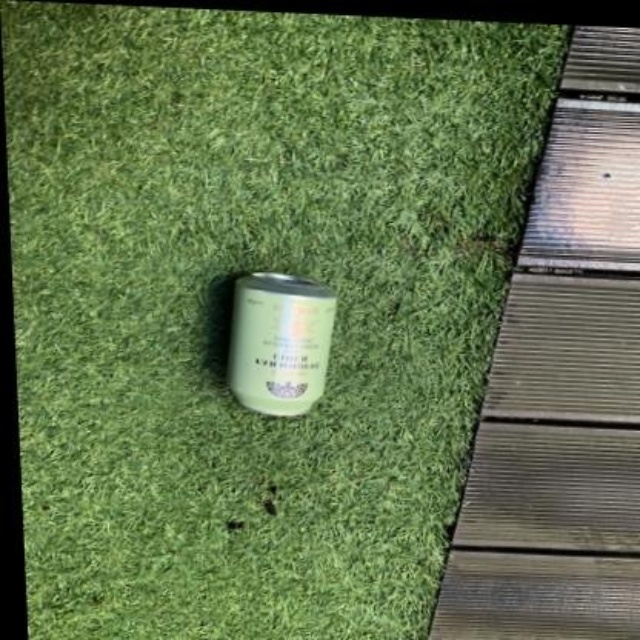trash: (228, 272, 335, 415)
